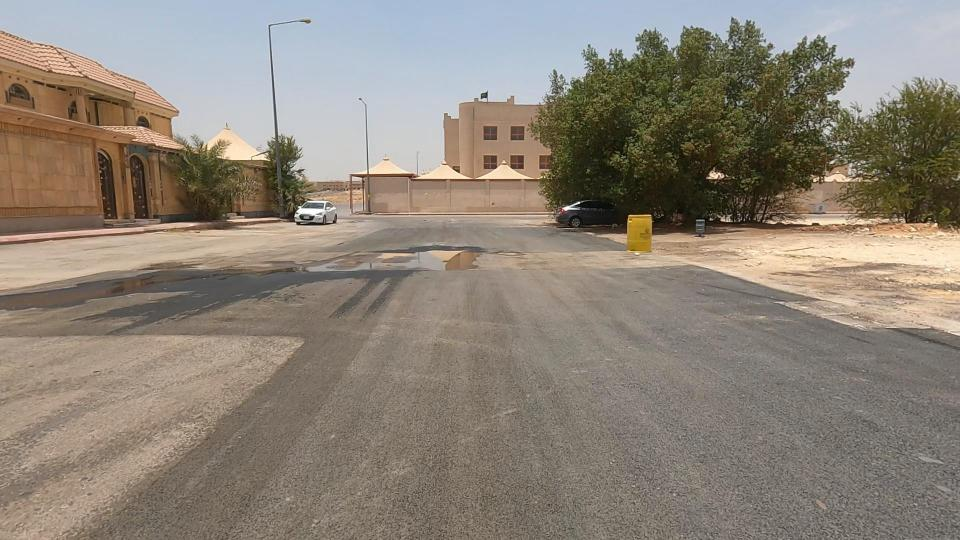POTHOLES: (324, 203, 534, 328)
